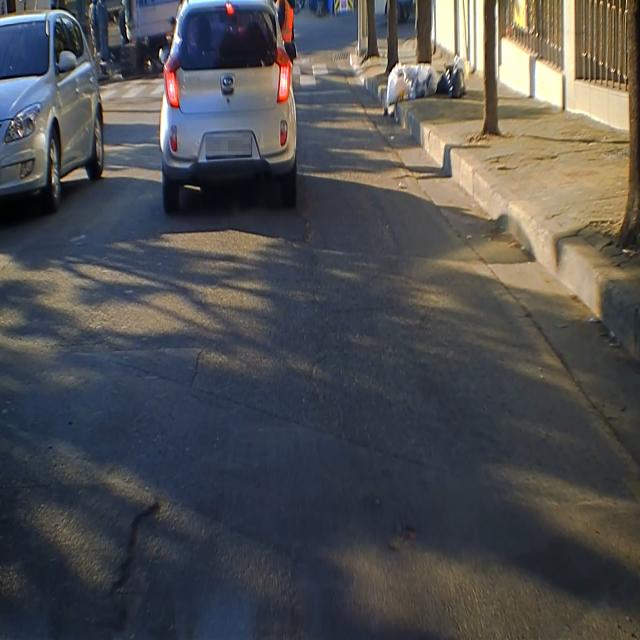Pothole: (89, 492, 192, 640)
